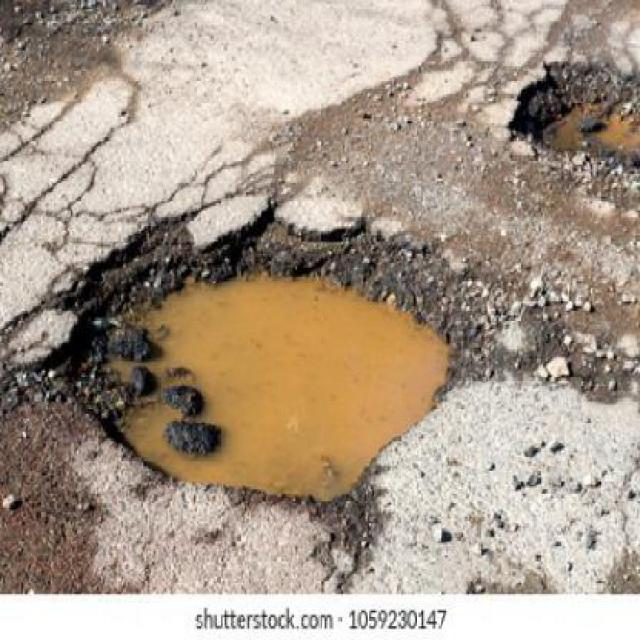Pothole: (52, 218, 466, 507), (504, 59, 638, 167)
